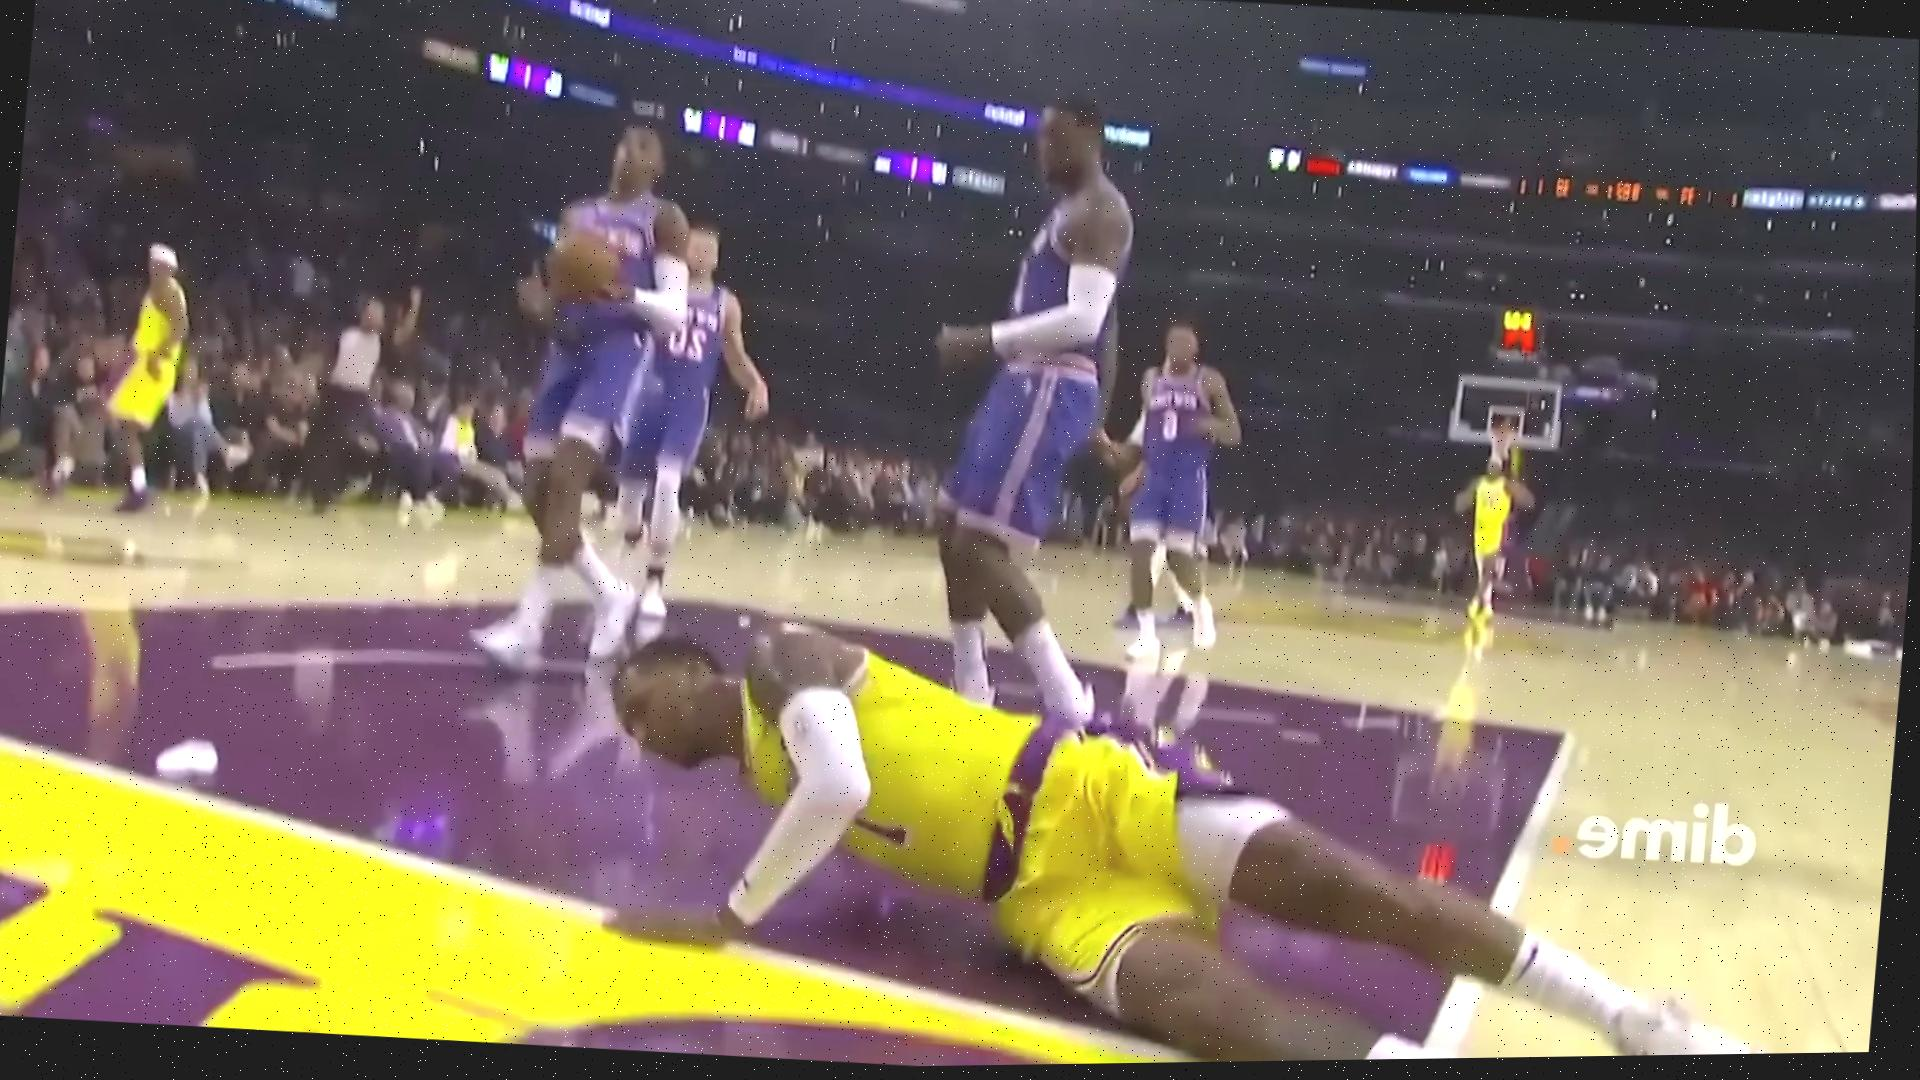no_foul: (568, 542, 1731, 1071)
